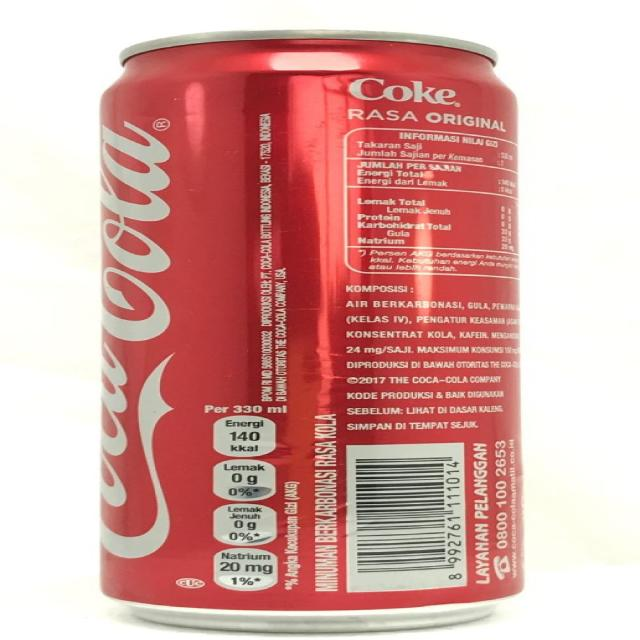cocacola: (84, 44, 556, 629)
